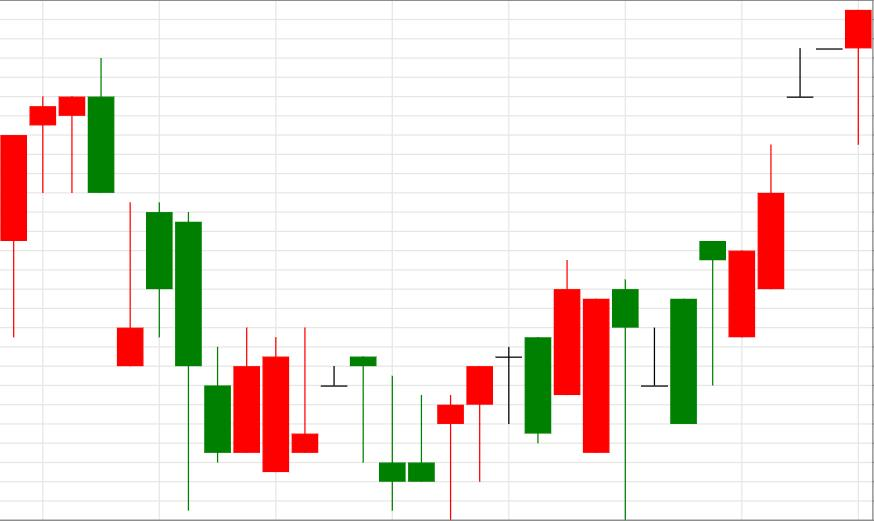hanging_man_fall: (728, 10, 874, 338)
